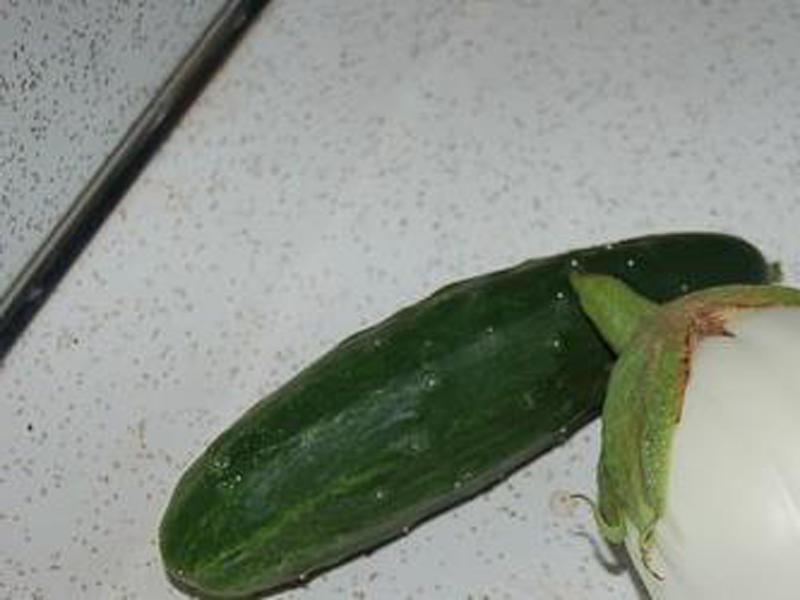Cucumber: (160, 234, 782, 600)
